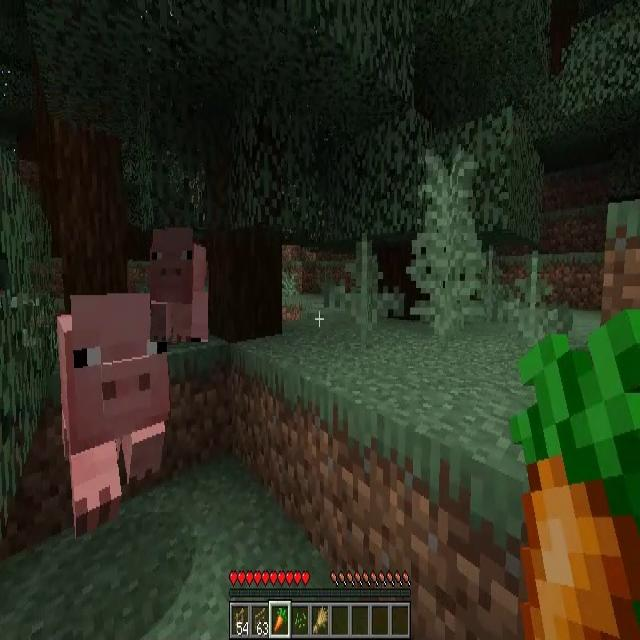pig: (58, 296, 170, 542), (150, 229, 208, 342)
